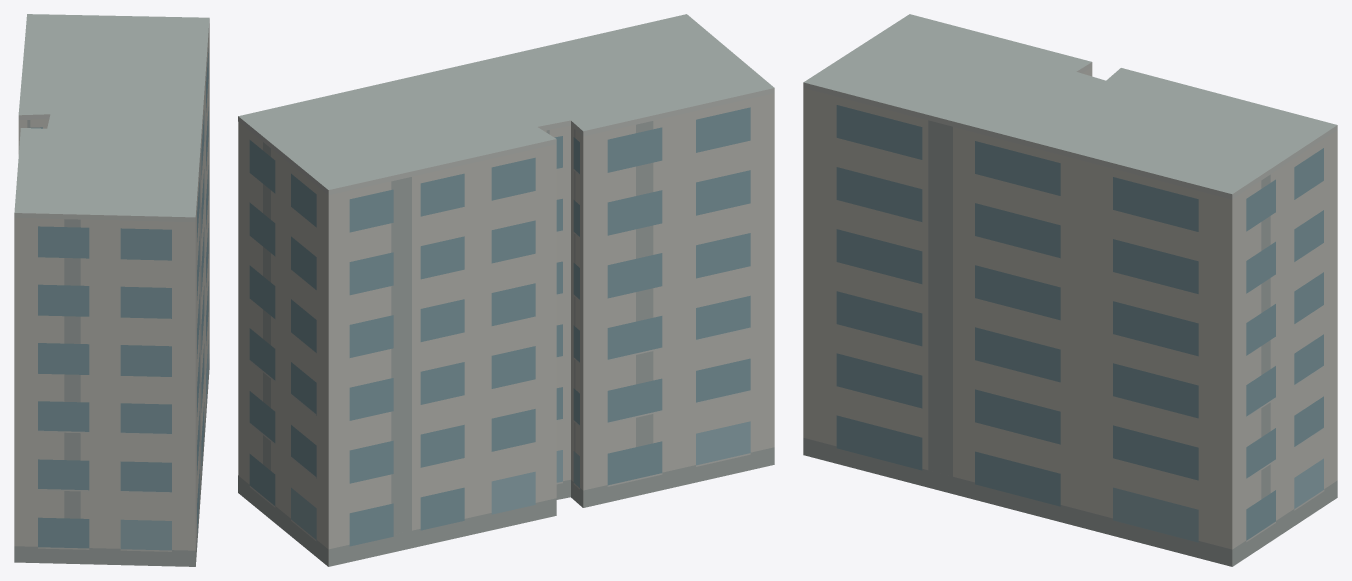
File: survey-upis-32517629.glb
The picture shows the model from 3 angles, left to right: view 1: azimuth 30°, elevation 25°; view 2: azimuth 150°, elevation 25°; view 3: azimuth 270°, elevation 25°; orthographic projection. The views are drawn at different scales.
Visible parts, largest first — view 1: survey-upis-32517629.tmp; view 2: survey-upis-32517629.tmp; view 3: survey-upis-32517629.tmp.
Part boxes in pixels (x1=…): survey-upis-32517629.tmp: x1=14, y1=14, x2=209, y2=566; survey-upis-32517629.tmp: x1=238, y1=14, x2=774, y2=566; survey-upis-32517629.tmp: x1=803, y1=14, x2=1337, y2=566.
Bounding box in the file's own units: 17.75 × 17.1 × 22.23.
